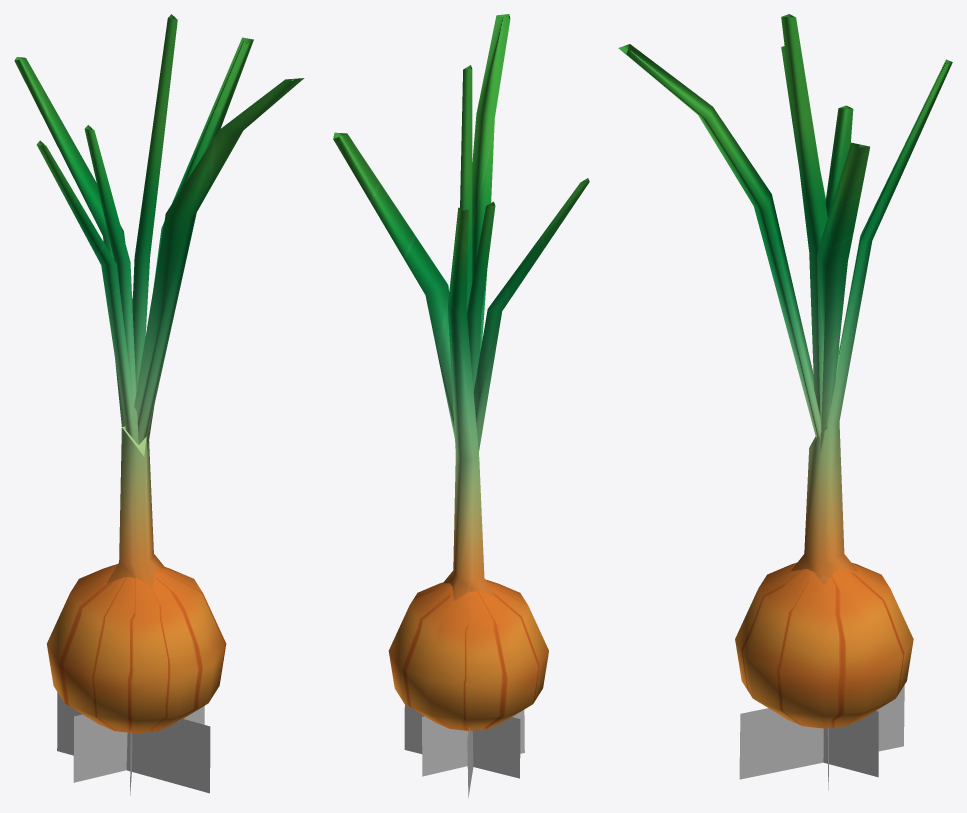
Rendered from GARDEN_OnionFull.FBX.
3 views of the same model, side by side, from view 1: azimuth 30°, elevation 25°; view 2: azimuth 150°, elevation 25°; view 3: azimuth 270°, elevation 25° (orthographic). The views are drawn at different scales.
Visible parts, largest first — view 1: Sphere056, OnionFull, Cylinder054, Plane801, Plane799; view 2: Sphere056, OnionFull, Cylinder054, Plane799, Plane800; view 3: Sphere056, OnionFull, Cylinder054, Plane801, Plane800.
Boxes of the visible parts, left/top/right/bottom form: Sphere056: left=47, top=564, right=226, bottom=733; OnionFull: left=84, top=14, right=304, bottom=450; Cylinder054: left=14, top=57, right=165, bottom=588; Plane801: left=57, top=692, right=210, bottom=793; Plane799: left=73, top=706, right=204, bottom=782; Sphere056: left=388, top=579, right=548, bottom=730; OnionFull: left=333, top=14, right=510, bottom=438; Cylinder054: left=443, top=178, right=589, bottom=600; Plane799: left=404, top=704, right=520, bottom=778; Plane800: left=422, top=710, right=524, bottom=776; Sphere056: left=735, top=562, right=913, bottom=728; OnionFull: left=618, top=14, right=869, bottom=450; Cylinder054: left=781, top=46, right=952, bottom=585; Plane801: left=739, top=685, right=904, bottom=779; Plane800: left=823, top=711, right=878, bottom=777.
Size of the model in its own units: 18.14 by 21 by 52.5.
